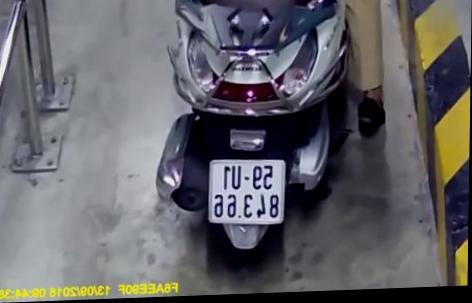License_Plate: (202, 151, 292, 231)
